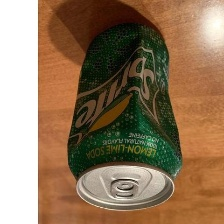can: (63, 20, 185, 213)
